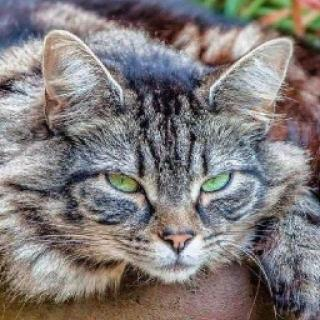cat: (43, 26, 293, 283)
nose: (152, 205, 202, 259)
